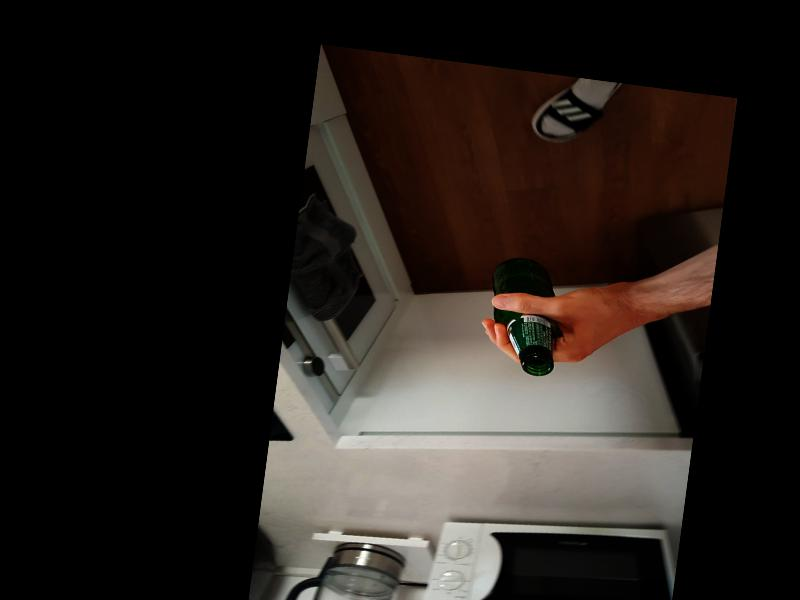Beer: (481, 254, 567, 376)
